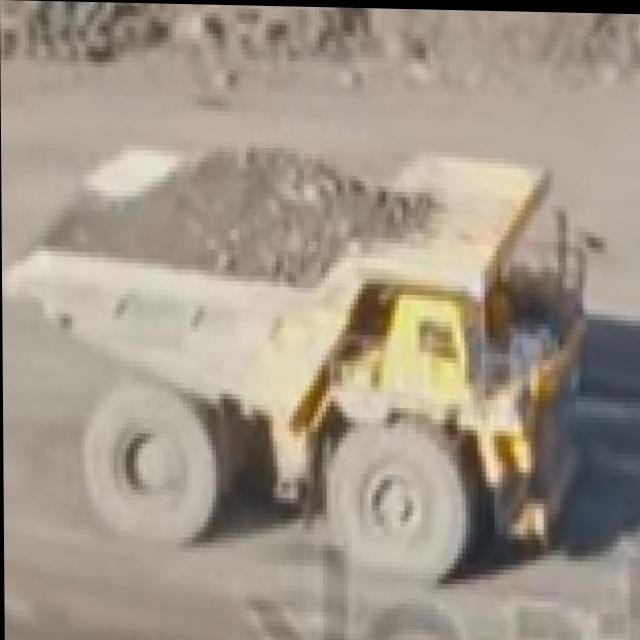uncovered: (19, 103, 550, 571)
